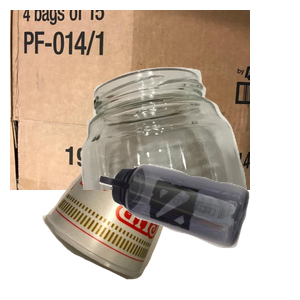cardboard: (10, 10, 250, 190)
glass: (74, 65, 300, 245)
plastic: (97, 162, 300, 300)
trash: (40, 121, 221, 300)
